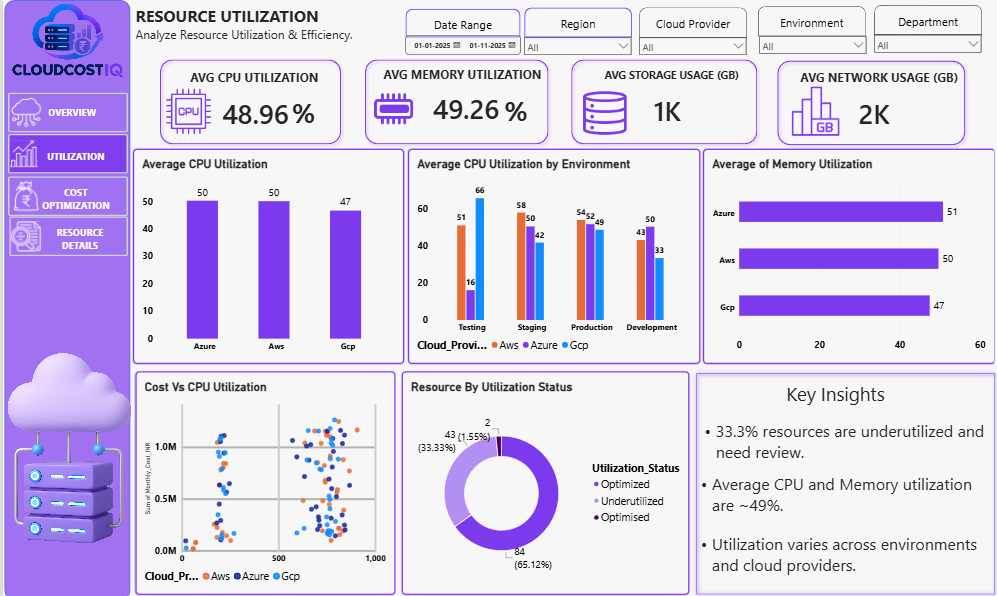

The page's visual inventory and layout, read from the dashboard file:
{"tool":"powerbi","page":{"name":"resource utilization","canvas":[2000,1200],"ordinal":1},"visuals":[{"type":"shape","box":[2.5,0,252.5,1200],"z":0},{"type":"image","box":[2.5,677.5,257.5,435],"z":1000},{"type":"image","box":[3.6,7.2,253.4,157.4],"z":2000},{"type":"actionButton","title":"overview off","box":[10,185,240,80],"z":4000},{"type":"actionButton","title":"utilization on","box":[10,268,240,80],"z":5000},{"type":"actionButton","title":"cost off","box":[10,352.5,240,80],"z":8000},{"type":"actionButton","title":"resource off","box":[12.5,432.5,237.5,80],"z":10000},{"type":"textbox","box":[264.4,8.9,528.9,95.6],"z":11000},{"type":"shape","box":[304.3,110,380,187.5],"z":12000},{"type":"textbox","box":[369.3,137.5,265,52.5],"z":13000},{"type":"cardVisual","fields":{"Data":["Avg(Cloud_billing_data.CPU_Utilization_Pct)"]},"box":[421.8,182.5,237.5,85],"z":14000},{"type":"image","box":[319.5,178.2,102,90],"z":15000},{"type":"shape","box":[714.8,110,385,187.5],"z":16000},{"type":"textbox","box":[754.8,132.5,327.5,57.5],"z":17000},{"type":"cardVisual","fields":{"Data":["Avg(Cloud_billing_data.Memory_Utilization_Pct)"]},"box":[818.9,173.3,212,86],"z":18000},{"type":"image","box":[730.1,173.6,102,90],"z":19000},{"type":"shape","box":[1126.8,110,390,187.5],"z":20000},{"type":"textbox","box":[1157.4,136,360,52],"z":21000},{"type":"cardVisual","fields":{"Data":["Avg(Cloud_billing_data.Storage_Usage_GB)"]},"box":[1221.8,177.5,212,86],"z":22000},{"type":"image","box":[1141.8,182.5,122.5,87.5],"z":23000},{"type":"shape","box":[1540.4,112.9,393.3,186.7],"z":24000},{"type":"textbox","box":[1573.5,137.6,360,52],"z":25000},{"type":"cardVisual","fields":{"Data":["Avg(Cloud_billing_data.Network_Usage_GB)"]},"box":[1693.8,181.5,150,87.5],"z":26000},{"type":"image","box":[1558.8,169,130,105],"z":27000},{"type":"slicer","fields":{"Values":["Cloud_billing_data.Cloud_Provider"]},"box":[1268.7,70.4,224.4,40],"z":28000},{"type":"shape","box":[1273.2,14.9,215.6,60],"z":29000},{"type":"slicer","fields":{"Values":["Cloud_billing_data.Environment"]},"box":[1506.3,68,224.4,40],"z":30000},{"type":"shape","box":[1510.7,12.4,215.6,60],"z":31000},{"type":"slicer","fields":{"Values":["Cloud_billing_data.Department"]},"box":[1737.8,66.2,224.4,40],"z":32000},{"type":"shape","box":[1742.2,10.6,215.6,60],"z":33000},{"type":"slicer","fields":{"Values":["Cloud_billing_data.Region"]},"box":[1037.7,69.8,224.4,40],"z":34000},{"type":"shape","box":[1042.1,14.2,215.6,60],"z":35000},{"type":"textbox","box":[577.5,187.5,57.5,75],"z":36000},{"type":"textbox","box":[1002.3,185,57.5,75],"z":37000},{"type":"columnChart","title":"Average CPU Utilization","fields":{"Category":["Cloud_billing_data.Cloud_Provider"],"Y":["Avg(Cloud_billing_data.CPU_Utilization_Pct)"]},"box":[260,297.5,542.5,430],"z":38000},{"type":"barChart","title":"Average of Memory Utilization","fields":{"Category":["Cloud_billing_data.Cloud_Provider"],"Y":["Avg(Cloud_billing_data.Memory_Utilization_Pct)"]},"box":[1400,297.5,585,430],"z":39000},{"type":"clusteredColumnChart","title":"Average CPU Utilization by Environment","fields":{"Category":["Cloud_billing_data.Environment"],"Series":["Cloud_billing_data.Cloud_Provider"],"Y":["Avg(Cloud_billing_data.CPU_Utilization_Pct)"]},"box":[810,297.5,585,430],"z":40000},{"type":"shape","box":[1377.5,737.5,617.5,460],"z":41000},{"type":"scatterChart","title":"Cost Vs CPU Utilization","fields":{"Category":["Cloud_billing_data.Resource_Id"],"Series":["Cloud_billing_data.Cloud_Provider"],"X":["Sum(Cloud_billing_data.CPU_Utilization_Pct)"],"Y":["Sum(Cloud_billing_data.Monthly_Cost_INR)"]},"box":[265,742.5,520,447.5],"z":42000},{"type":"donutChart","title":"Resource By Utilization Status","fields":{"Category":["Cloud_billing_data.Utilization_Status"],"Y":["Count(Cloud_billing_data.Resource_Id)"]},"box":[797.5,742.5,575,447.5],"z":43000},{"type":"textbox","box":[1515,762.5,300,50],"z":44000},{"type":"textbox","box":[1377.5,840,612.5,87.5],"z":45000},{"type":"textbox","box":[1370,945,612.5,87.5],"z":46000},{"type":"textbox","box":[1370,1065,612.5,87.5],"z":47000},{"type":"slicer","fields":{"Values":["Cloud_billing_data.Billing_Date"]},"box":[805,70,230,40],"z":47001},{"type":"shape","box":[805,17.5,230,57.5],"z":47002}]}

Visuals, with their boxes in screenshot pixels (x1, y1, x2, y2), scaled from the page's 2000x1200 canvas onto the 997x596 screenshot:
shape: (left=1, top=0, right=127, bottom=595)
image: (left=1, top=336, right=130, bottom=553)
image: (left=2, top=4, right=128, bottom=82)
"overview off" actionButton: (left=5, top=92, right=125, bottom=132)
"utilization on" actionButton: (left=5, top=133, right=125, bottom=173)
"cost off" actionButton: (left=5, top=175, right=125, bottom=215)
"resource off" actionButton: (left=6, top=215, right=125, bottom=255)
textbox: (left=132, top=4, right=395, bottom=52)
shape: (left=152, top=55, right=341, bottom=148)
textbox: (left=184, top=68, right=316, bottom=94)
cardVisual - Avg(Cloud_billing_data.CPU_Utilization_Pct): (left=210, top=91, right=329, bottom=133)
image: (left=159, top=89, right=210, bottom=133)
shape: (left=356, top=55, right=548, bottom=148)
textbox: (left=376, top=66, right=540, bottom=94)
cardVisual - Avg(Cloud_billing_data.Memory_Utilization_Pct): (left=408, top=86, right=514, bottom=129)
image: (left=364, top=86, right=415, bottom=131)
shape: (left=562, top=55, right=756, bottom=148)
textbox: (left=577, top=68, right=756, bottom=93)
cardVisual - Avg(Cloud_billing_data.Storage_Usage_GB): (left=609, top=88, right=715, bottom=131)
image: (left=569, top=91, right=630, bottom=134)
shape: (left=768, top=56, right=964, bottom=149)
textbox: (left=784, top=68, right=964, bottom=94)
cardVisual - Avg(Cloud_billing_data.Network_Usage_GB): (left=844, top=90, right=919, bottom=134)
image: (left=777, top=84, right=842, bottom=136)
slicer - Cloud_billing_data.Cloud_Provider: (left=632, top=35, right=744, bottom=55)
shape: (left=635, top=7, right=742, bottom=37)
slicer - Cloud_billing_data.Environment: (left=751, top=34, right=863, bottom=54)
shape: (left=753, top=6, right=861, bottom=36)
slicer - Cloud_billing_data.Department: (left=866, top=33, right=978, bottom=53)
shape: (left=868, top=5, right=976, bottom=35)
slicer - Cloud_billing_data.Region: (left=517, top=35, right=629, bottom=55)
shape: (left=519, top=7, right=627, bottom=37)
textbox: (left=288, top=93, right=317, bottom=130)
textbox: (left=500, top=92, right=528, bottom=129)
"Average CPU Utilization" columnChart: (left=130, top=148, right=400, bottom=361)
"Average of Memory Utilization" barChart: (left=698, top=148, right=990, bottom=361)
"Average CPU Utilization by Environment" clusteredColumnChart: (left=404, top=148, right=695, bottom=361)
shape: (left=687, top=366, right=995, bottom=595)
"Cost Vs CPU Utilization" scatterChart: (left=132, top=369, right=391, bottom=591)
"Resource By Utilization Status" donutChart: (left=398, top=369, right=684, bottom=591)
textbox: (left=755, top=379, right=905, bottom=404)
textbox: (left=687, top=417, right=992, bottom=461)
textbox: (left=683, top=469, right=988, bottom=513)
textbox: (left=683, top=529, right=988, bottom=572)
slicer - Cloud_billing_data.Billing_Date: (left=401, top=35, right=516, bottom=55)
shape: (left=401, top=9, right=516, bottom=37)
